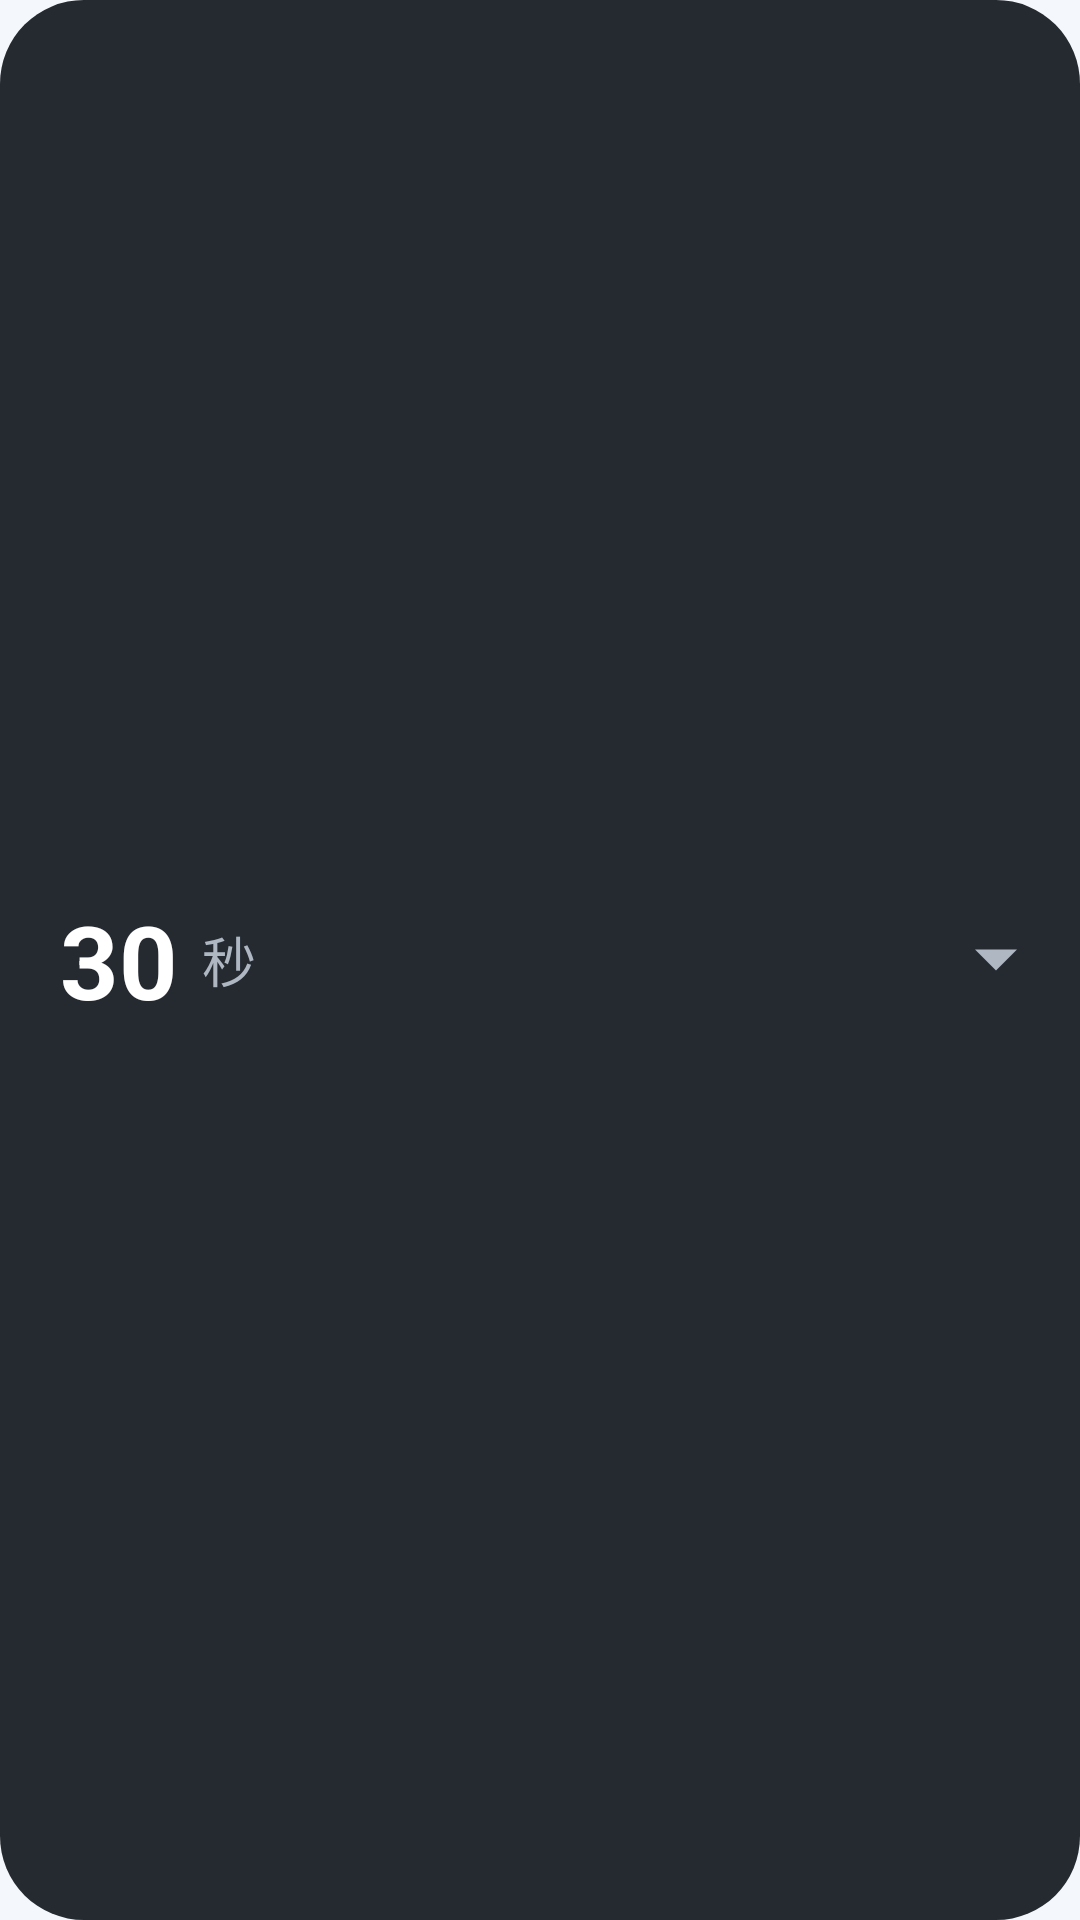

Icons on this 1080x1920 Android screen, each with the point to tap as (x,y):
選擇 ETA 自動刷新間隔: (996,959)
